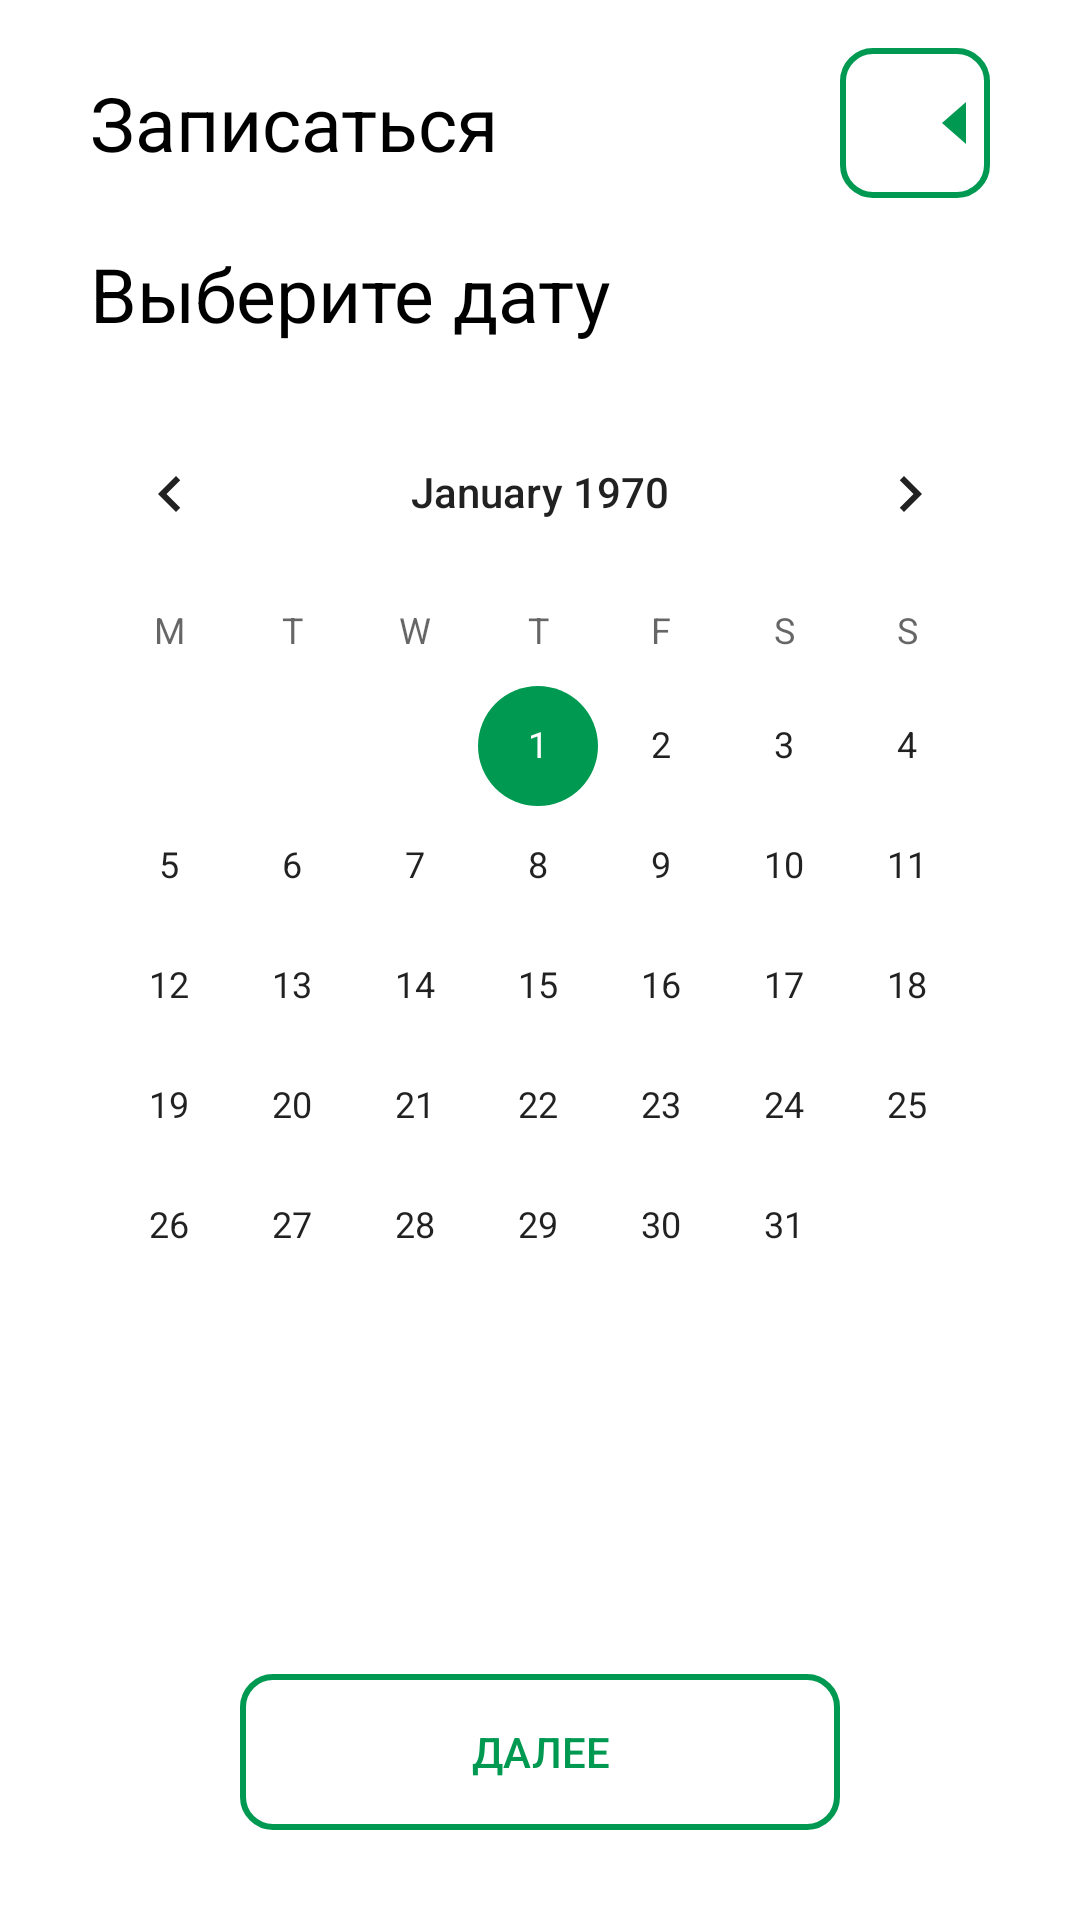

Where to tap for icons on this 1080px×1920px app screen, as (x=x, y=y):
obvodka: (x=915, y=123)
